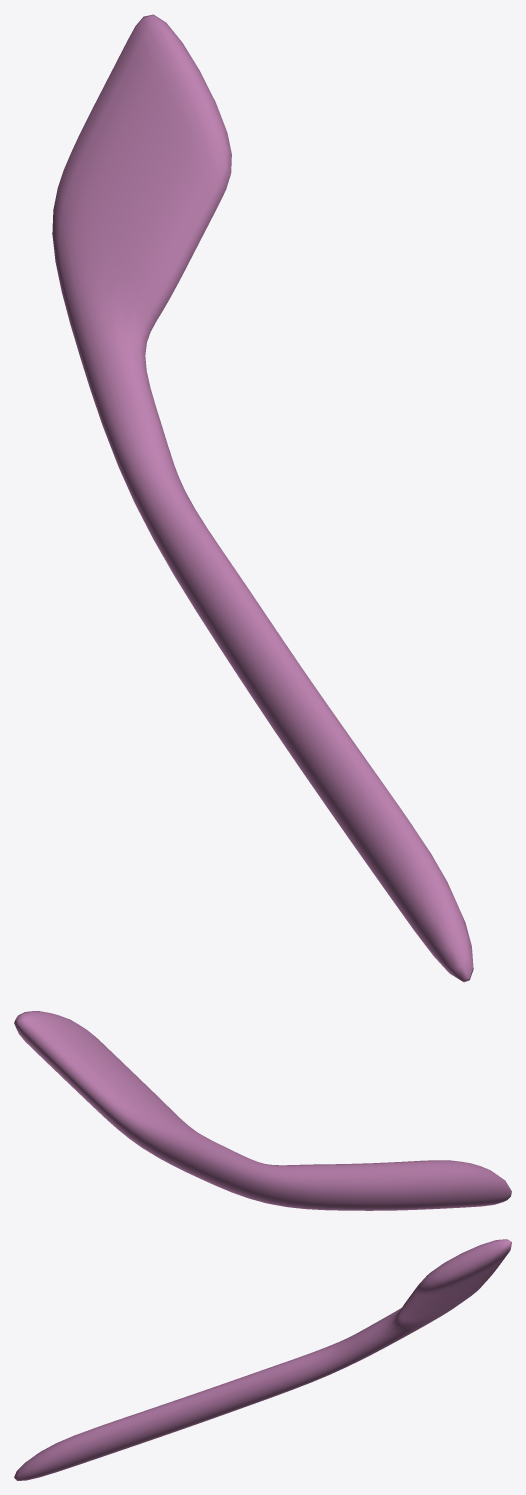
The picture shows the model from 3 angles, top to bottom: view 1: azimuth 30°, elevation 25°; view 2: azimuth 150°, elevation 25°; view 3: azimuth 270°, elevation 25°; orthographic projection. The views are drawn at different scales.
Visible parts, largest first — view 1: 右侧孤束核; view 2: 右侧孤束核; view 3: 右侧孤束核.
Part boxes in pixels (box(x1,y1,x2,y2)): 右侧孤束核: box(52, 14, 473, 982); 右侧孤束核: box(14, 1011, 511, 1210); 右侧孤束核: box(14, 1239, 511, 1480).
Bounding box in the file's own units: 0.00364 × 0.0093 × 0.0148.
